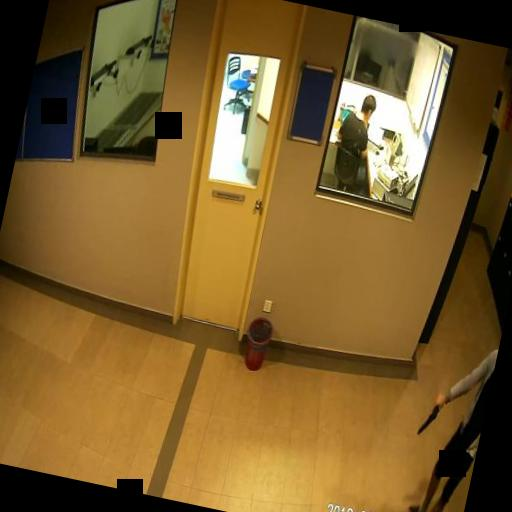Handgun: (416, 386, 444, 437)
